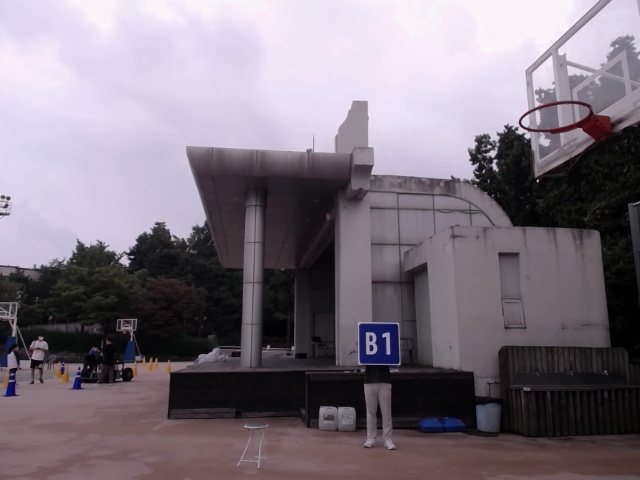delivery_b1: (358, 322, 400, 365)
